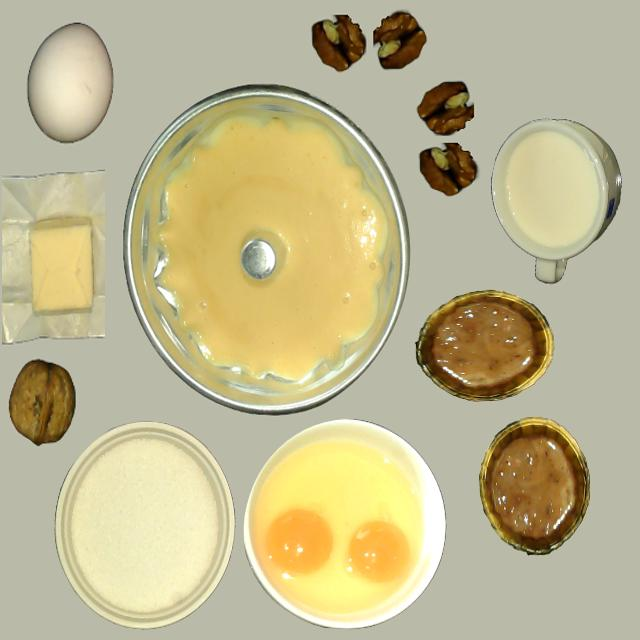Egg: (266, 509, 333, 575), (348, 522, 408, 582)
Milk: (508, 135, 594, 246)
Sugar: (55, 421, 231, 628)
Walnut: (8, 361, 75, 445)
